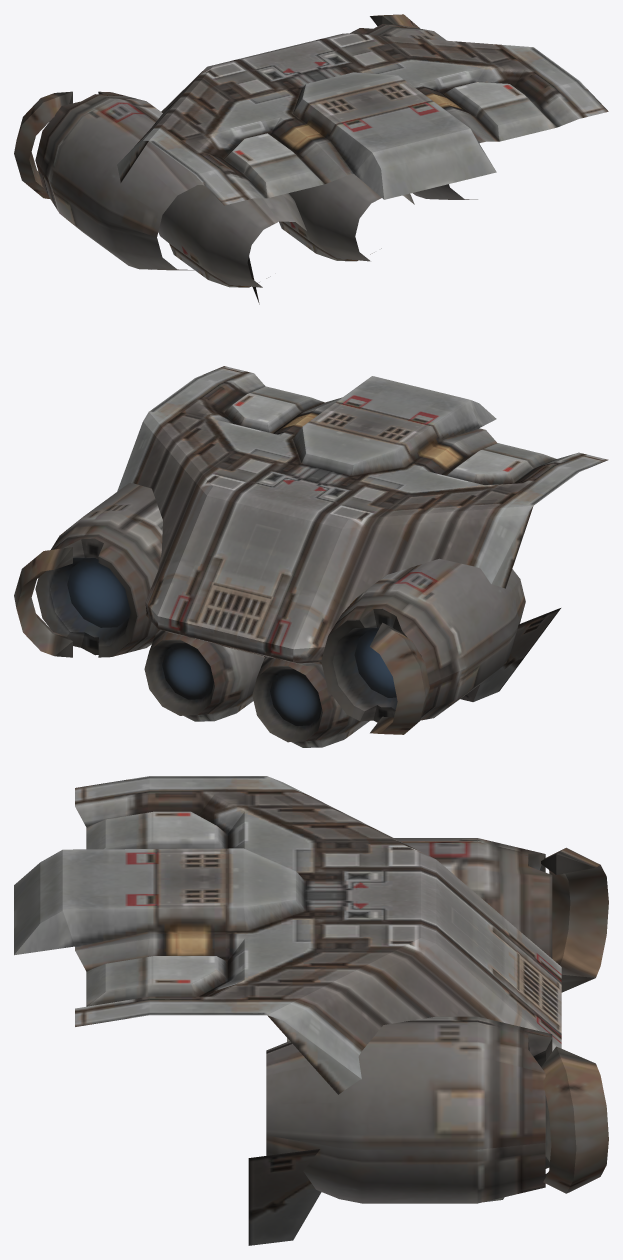
The model's file is engine_hgn_explorer_01_ion_02_t1.glb.
The picture shows the model from 3 angles, top to bottom: view 1: azimuth 30°, elevation 25°; view 2: azimuth 150°, elevation 25°; view 3: azimuth 270°, elevation 25°; orthographic projection. The views are drawn at different scales.
Visible parts, largest first — view 1: ion_engine_t1_m_01_LOD0; view 2: ion_engine_t1_m_01_LOD0; view 3: ion_engine_t1_m_01_LOD0.
Part boxes in pixels (box(x1,y1,x2,y2)): ion_engine_t1_m_01_LOD0: box(14, 14, 608, 304); ion_engine_t1_m_01_LOD0: box(14, 366, 608, 747); ion_engine_t1_m_01_LOD0: box(14, 776, 608, 1245).
Size of the model in its own units: 1.99 by 0.9914 by 1.89.
1 material, 1 textured.
